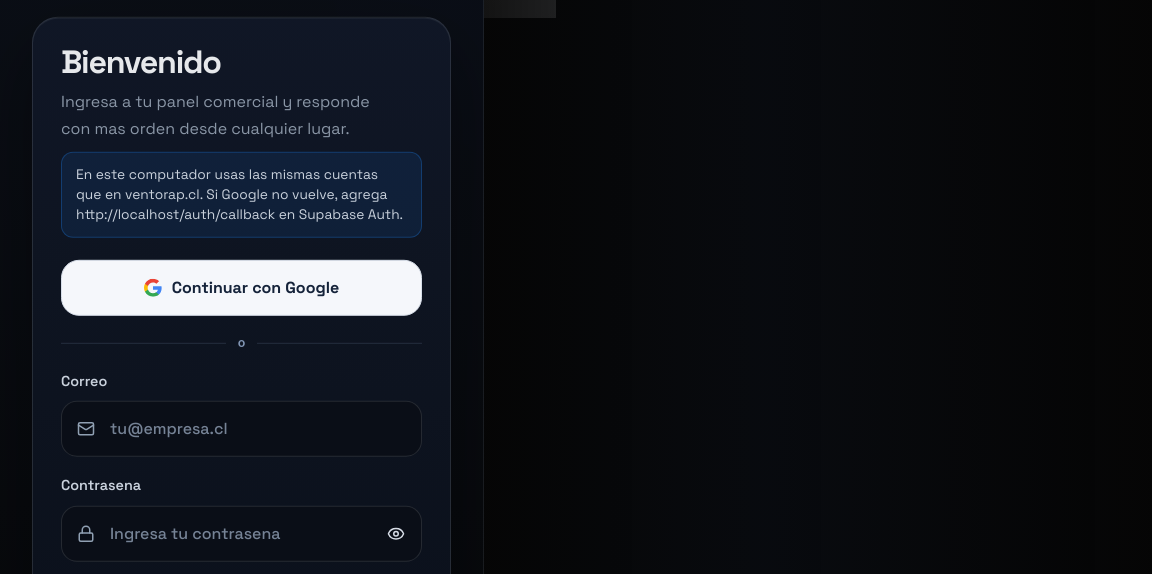
Scenario: LoginView › muestra un mensaje mas preciso cuando las credenciales no coinciden
The image size is (1152, 574).
Type "sanmarcoaluminios@gmail.com" into the field labelled "Correo" at [241, 429], box [61,401,422,457]
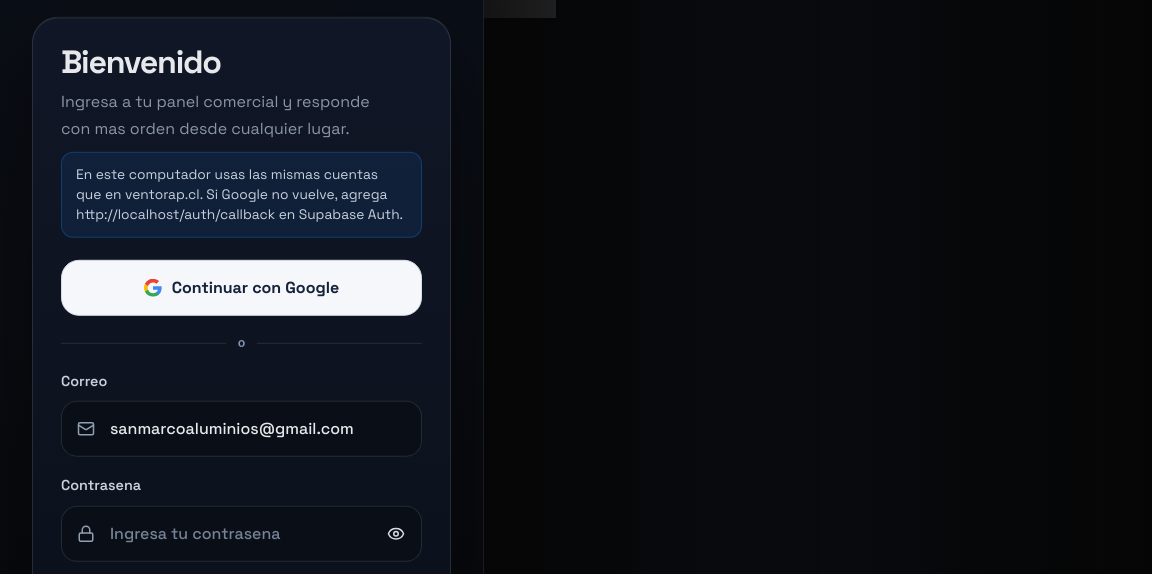
Type "clave-mala" into the password field labelled "Contrasena" at [241, 534], box [61,506,422,562]
(page scrolled)
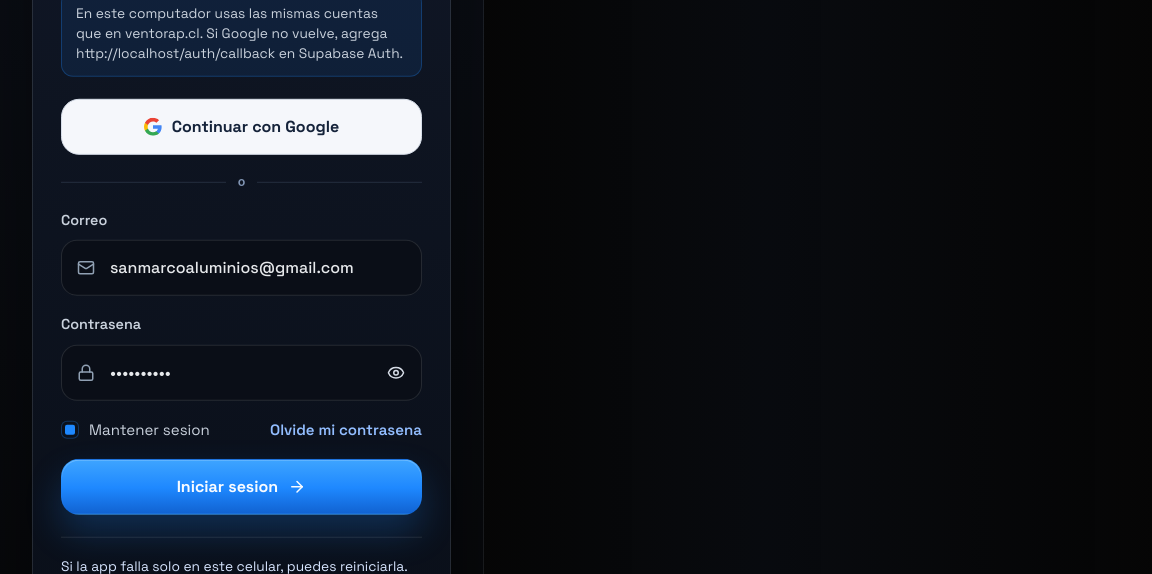
Submit the form labelled "Contrasena", box [61,99,422,515]
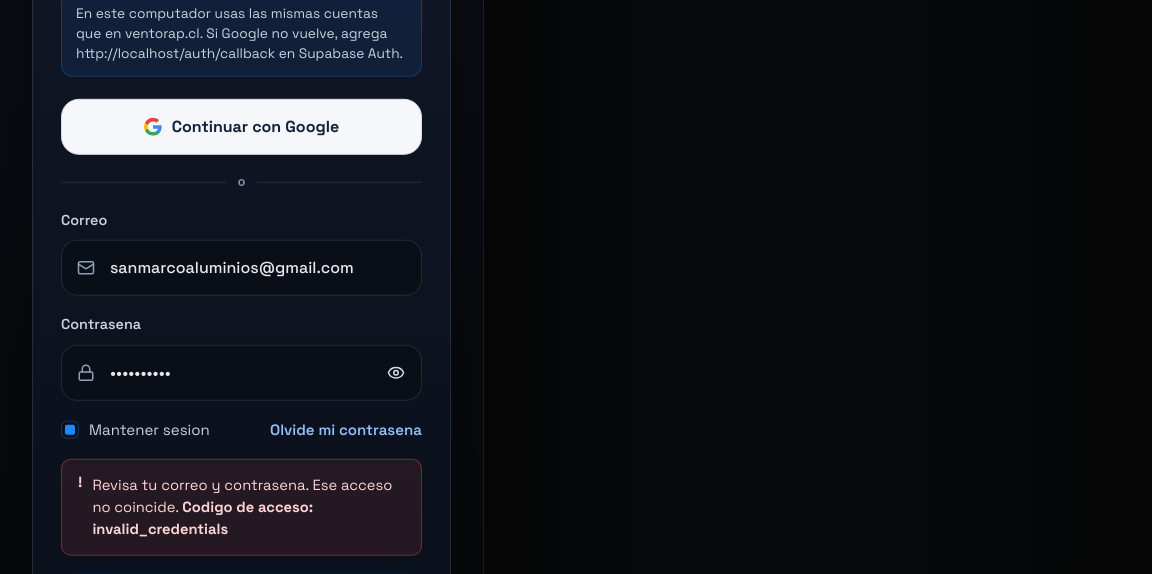
Check: the text "Revisa tu correo y contrasena." is shown, box [92,476,392,516]
Check: the text "Codigo de acceso: invalid_credentials" is shown, box [92,498,313,538]
